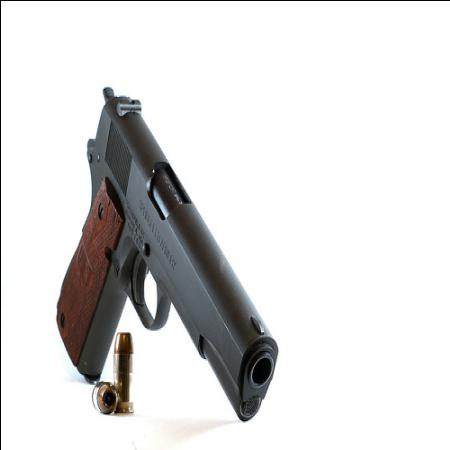Pistol: (54, 85, 276, 419)
